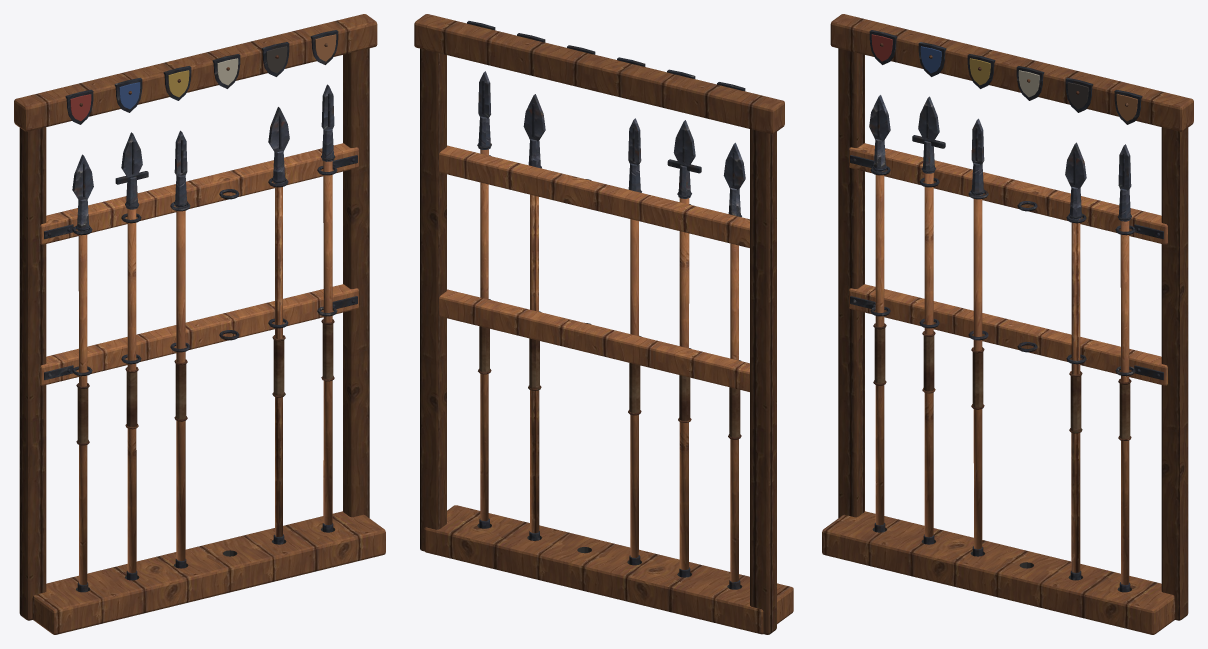
The model's file is hs_spear_rack.glb.
3 renders of one model, left to right at view 1: azimuth 30°, elevation 25°; view 2: azimuth 150°, elevation 25°; view 3: azimuth 330°, elevation 25°, orthographic. The views are drawn at different scales.
Visible parts, largest first — view 1: model; view 2: model; view 3: model.
Part boxes in pixels (left/top/right/bottom): model: left=14, top=14, right=385, bottom=634; model: left=414, top=14, right=793, bottom=634; model: left=822, top=14, right=1193, bottom=634.
Bounding box in the file's own units: 1.44 × 2.03 × 0.22.
14 materials, 7 textured.
